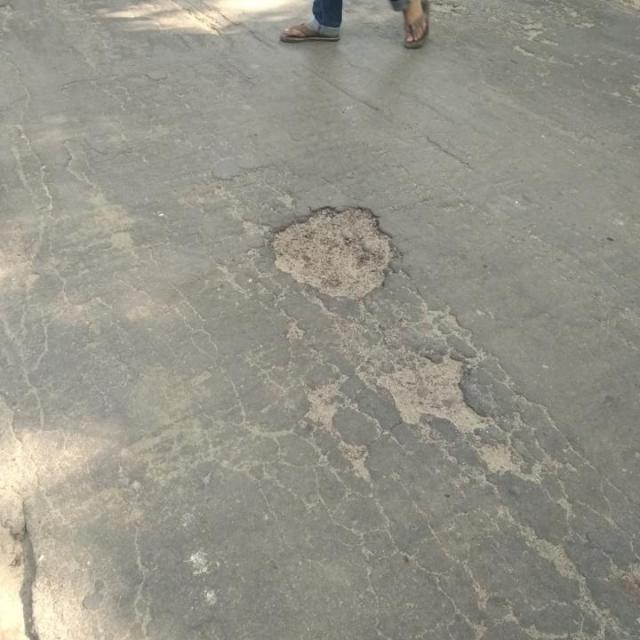pothole: (270, 201, 400, 300), (377, 350, 497, 431)
